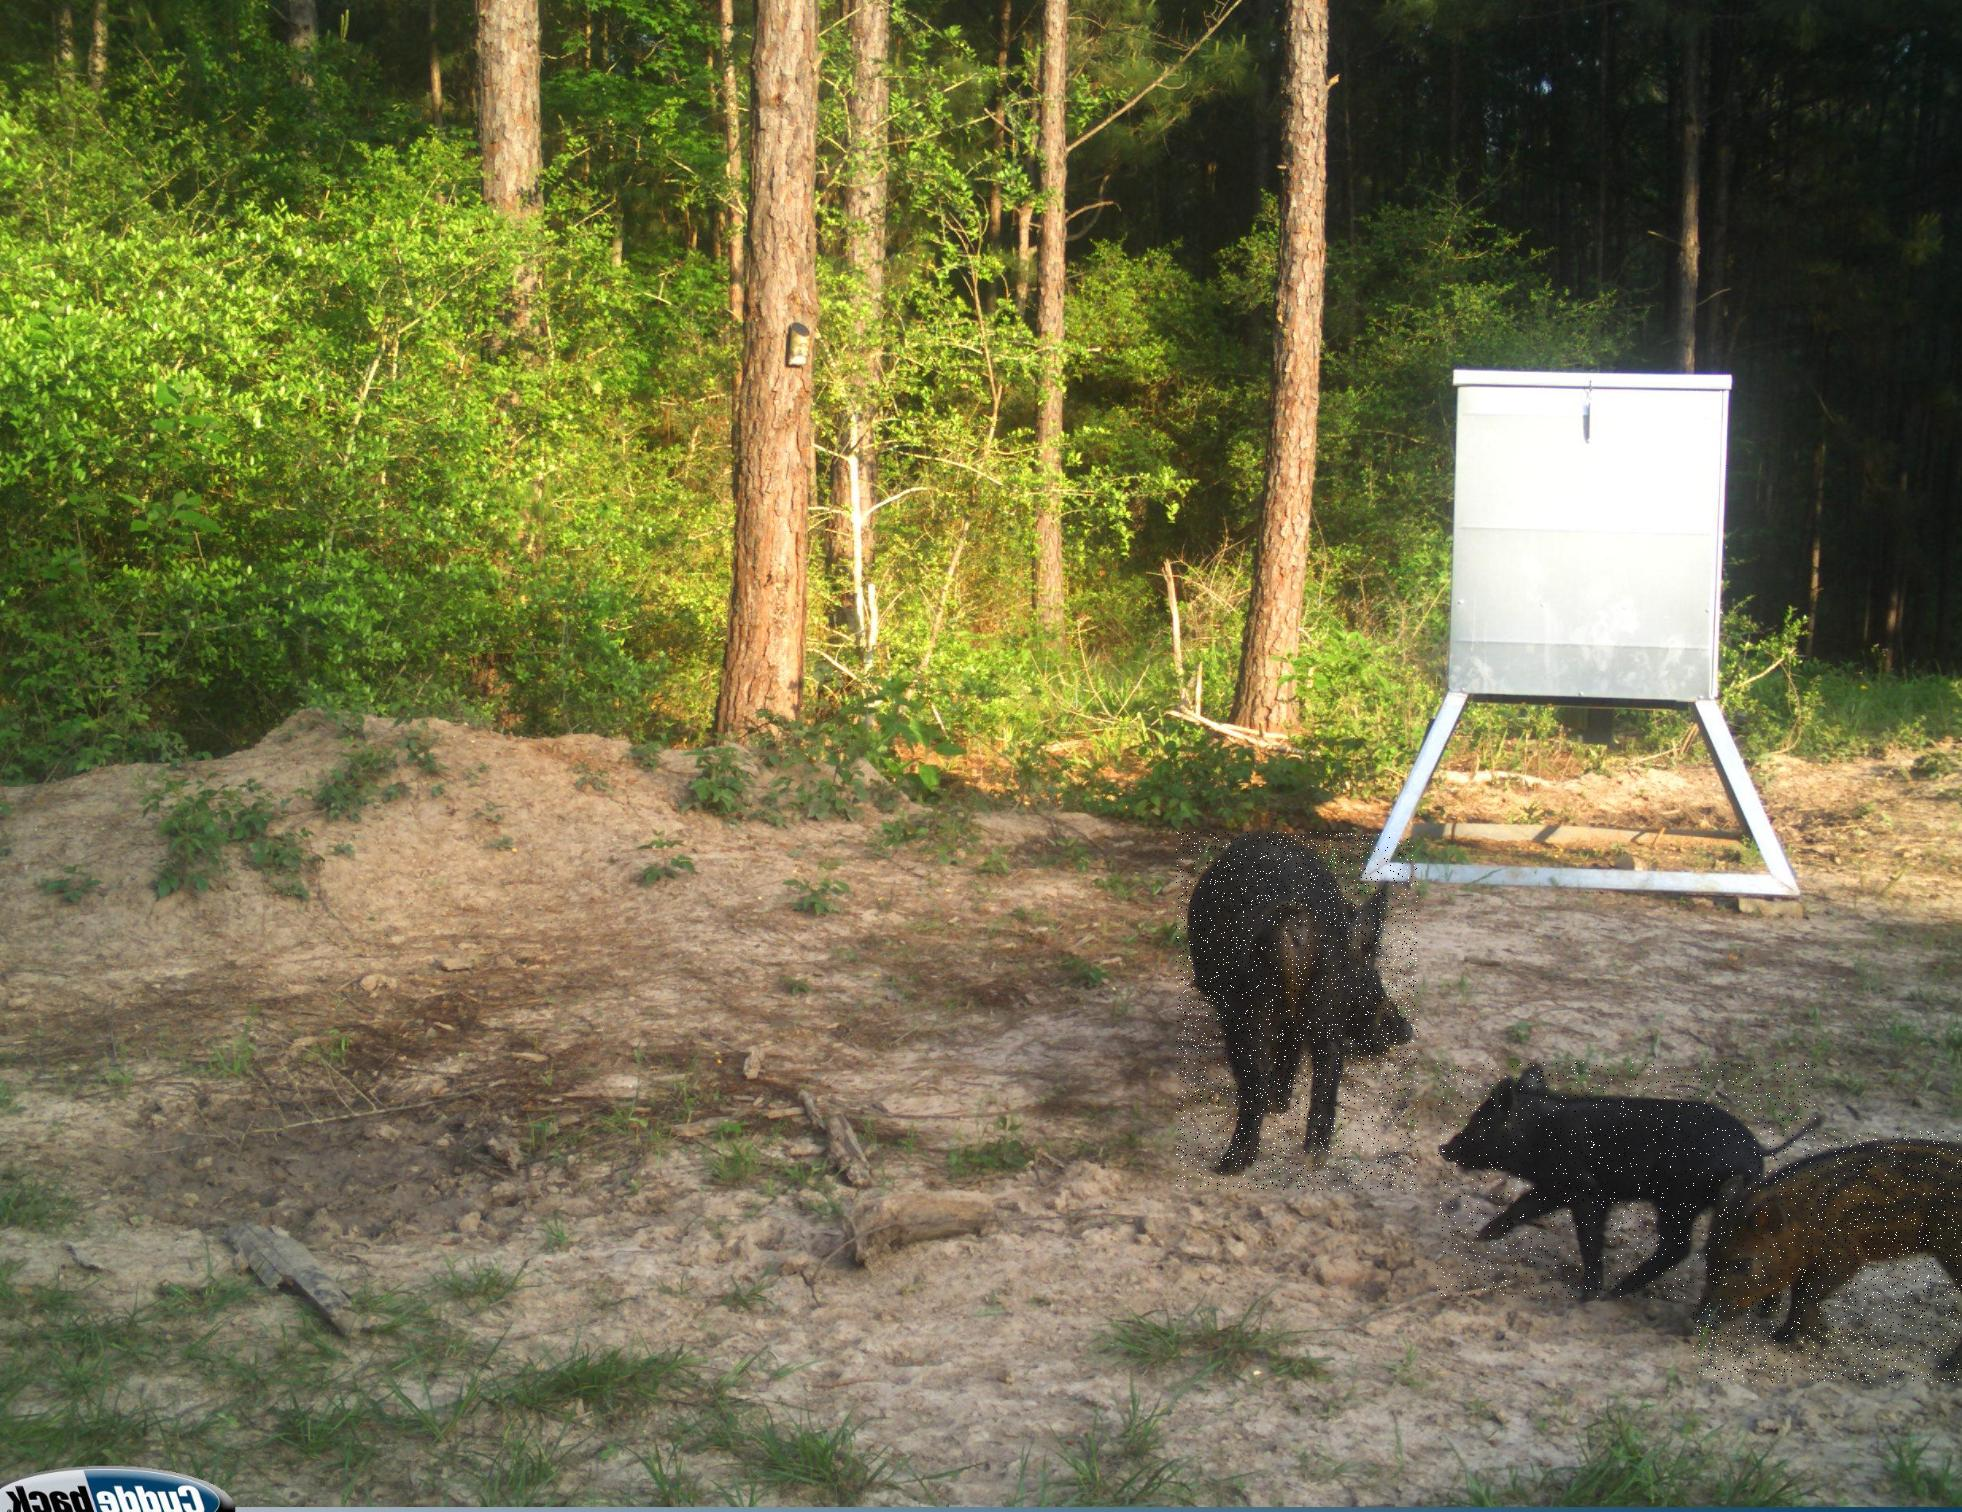Hog: (1438, 1063, 1817, 1298), (1176, 832, 1417, 1190), (1694, 1131, 1962, 1383)
